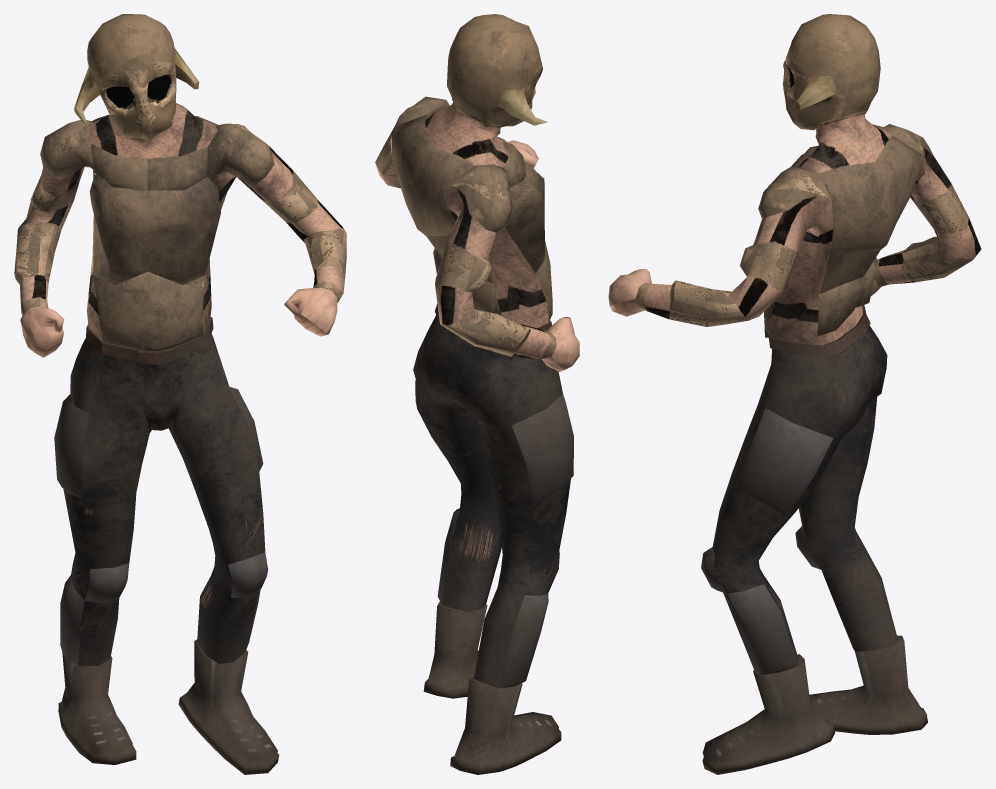
Rendered from Anim_ataque_d1_npc1.0016.obj.
3 views of the same model, side by side, from view 1: azimuth 30°, elevation 25°; view 2: azimuth 150°, elevation 25°; view 3: azimuth 270°, elevation 25° (orthographic).
Visible parts, largest first — view 1: NPC2; view 2: NPC2; view 3: NPC2.
Part boxes in pixels (x1,y1,x2,y2): NPC2: [14, 14, 346, 774]; NPC2: [375, 14, 579, 774]; NPC2: [608, 14, 981, 774].
Bounding box in the file's own units: 3.49 × 9.43 × 4.44.
